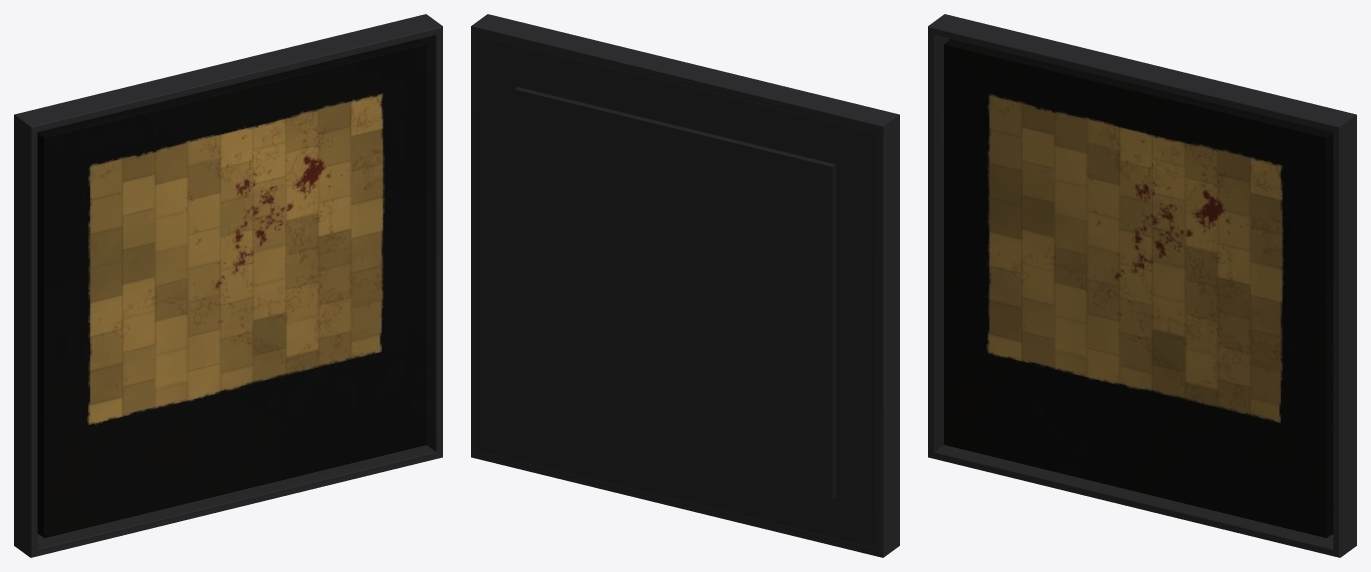
The model's file is art_gold_leaf.gltf.
3 views of the same model, side by side, from view 1: azimuth 30°, elevation 25°; view 2: azimuth 150°, elevation 25°; view 3: azimuth 330°, elevation 25° (orthographic).
Parts seen in each view (by area): view 1: Art_GoldLeaf_Art, Art_GoldLeaf_Frame; view 2: Art_GoldLeaf_Spacer, Art_GoldLeaf_Tray, Art_GoldLeaf_Frame; view 3: Art_GoldLeaf_Art, Art_GoldLeaf_Frame.
Part boxes in pixels (x1,y1,x2,y2): Art_GoldLeaf_Art: (37, 39, 426, 538); Art_GoldLeaf_Frame: (14, 14, 442, 557); Art_GoldLeaf_Spacer: (515, 87, 836, 499); Art_GoldLeaf_Tray: (478, 35, 876, 548); Art_GoldLeaf_Frame: (471, 14, 899, 557); Art_GoldLeaf_Art: (944, 39, 1333, 538); Art_GoldLeaf_Frame: (928, 14, 1356, 557).
Size of the model in its own units: 0.7 by 0.7 by 0.06.
2 materials, 1 textured.
